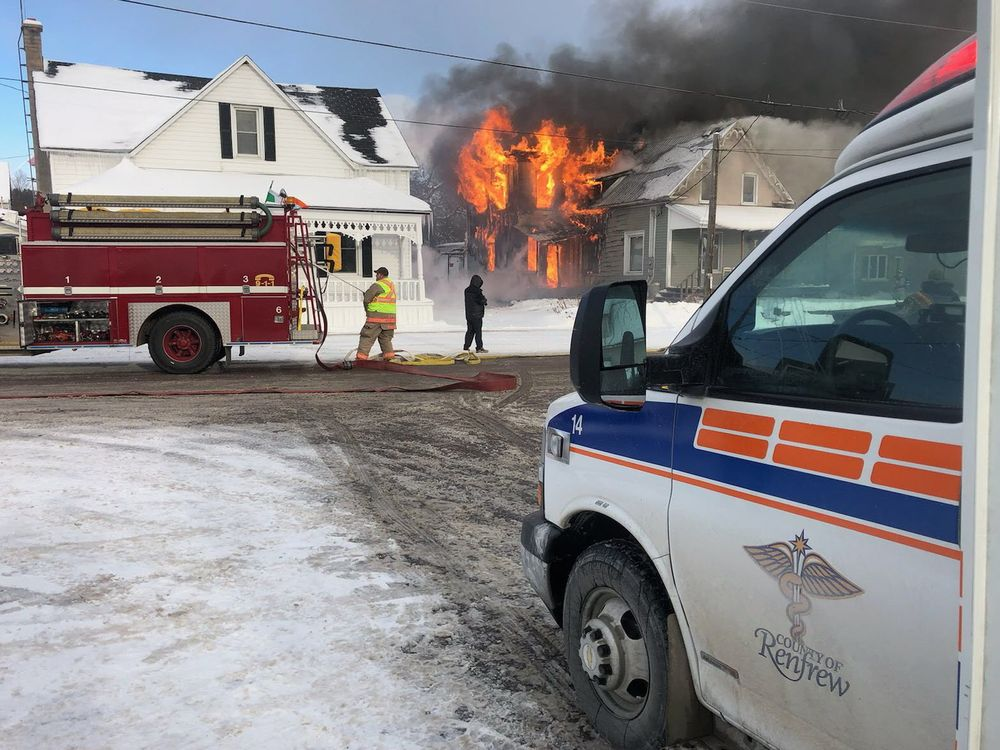fire: (461, 109, 606, 222)
smoke: (522, 21, 893, 107)
